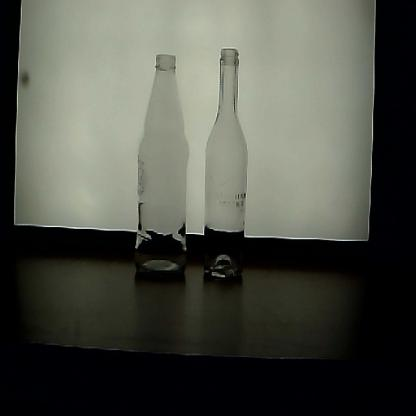Can: (136, 49, 191, 293), (202, 43, 250, 282)
